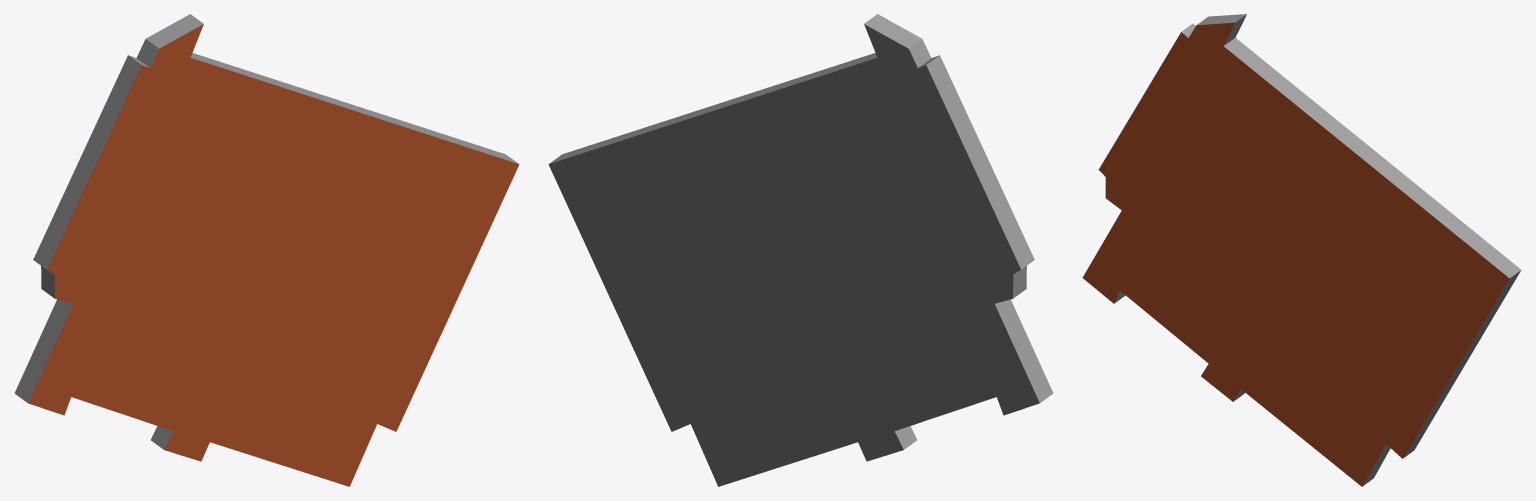
The model's file is construction_0143_assumed_A_Grande_construcao_h6m.obj.
3 renders of one model, left to right at view 1: azimuth 30°, elevation 25°; view 2: azimuth 150°, elevation 25°; view 3: azimuth 330°, elevation 25°, orthographic. The views are drawn at different scales.
Parts seen in each view (by area): view 1: construction_0143_assumed_A_Grande_construcao; view 2: construction_0143_assumed_A_Grande_construcao; view 3: construction_0143_assumed_A_Grande_construcao.
Part boxes in pixels (bbox=[...]): construction_0143_assumed_A_Grande_construcao: bbox=[14, 14, 519, 486]; construction_0143_assumed_A_Grande_construcao: bbox=[548, 14, 1053, 486]; construction_0143_assumed_A_Grande_construcao: bbox=[1082, 14, 1521, 486].
Bounding box in the file's own units: 125 × 121 × 6.
